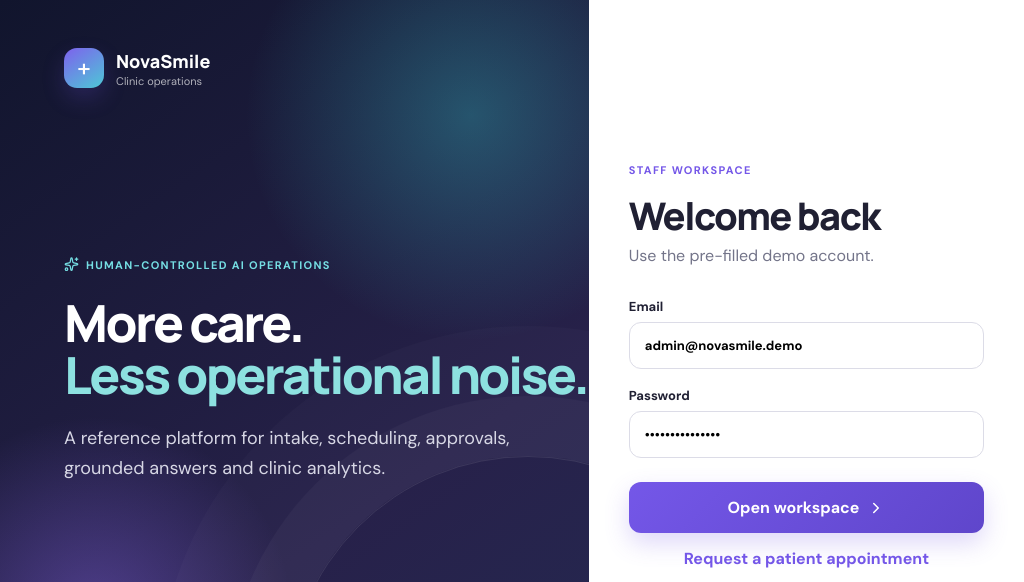
clinic web application › opens appointment workspace
This screenshot has width=1024, height=582.
Click the button "Open workspace" at (806,508), box [629, 482, 984, 533]
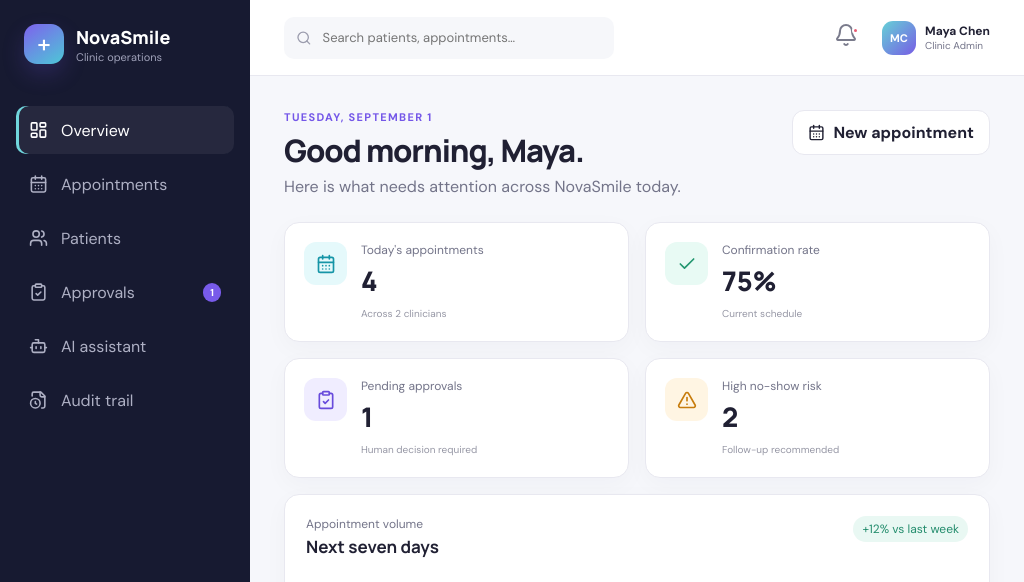
Expected: the heading "Good morning, Maya." is shown, [284, 129, 584, 171]
Click the button "Appointments" at (125,184), box [16, 160, 234, 208]
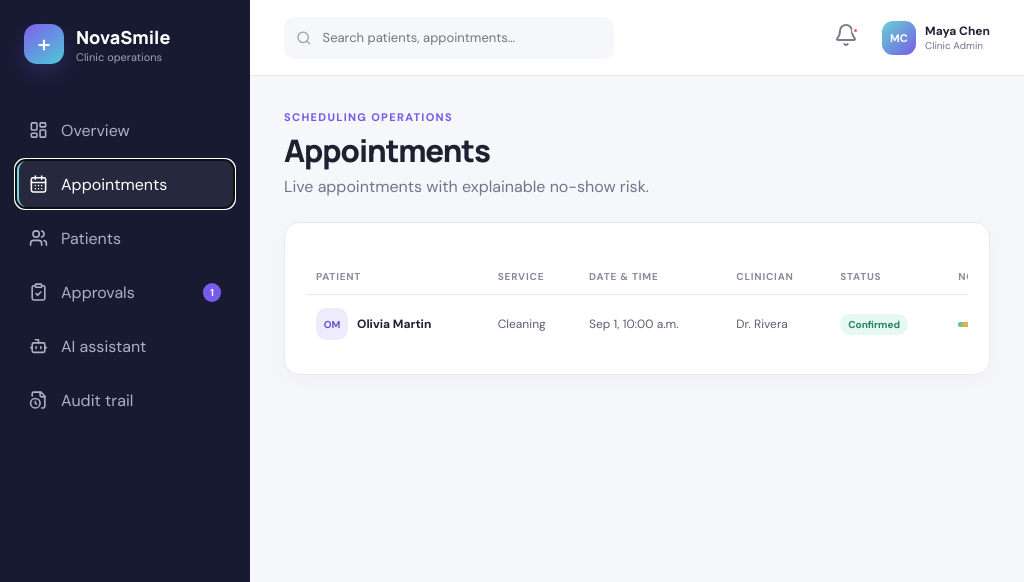
Expected: the heading "Appointments" is shown, [284, 129, 490, 171]
